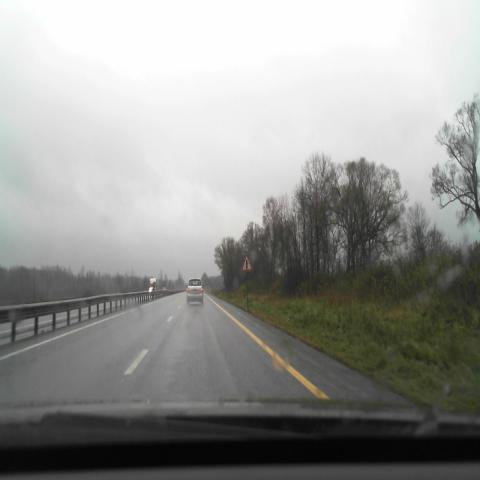2_3_2: (241, 253, 253, 273)
